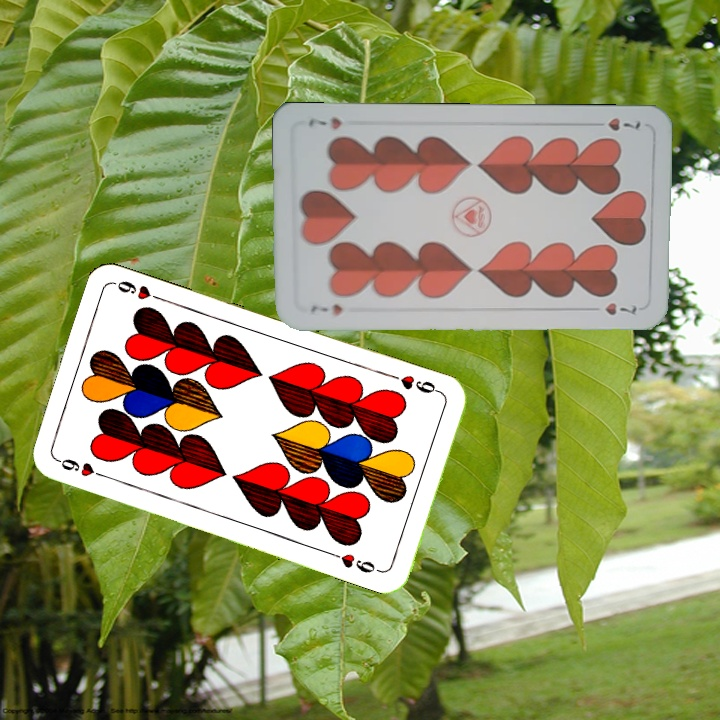H7: (587, 113, 644, 134), (307, 300, 345, 319)
H9: (53, 454, 111, 481), (396, 371, 445, 397)
